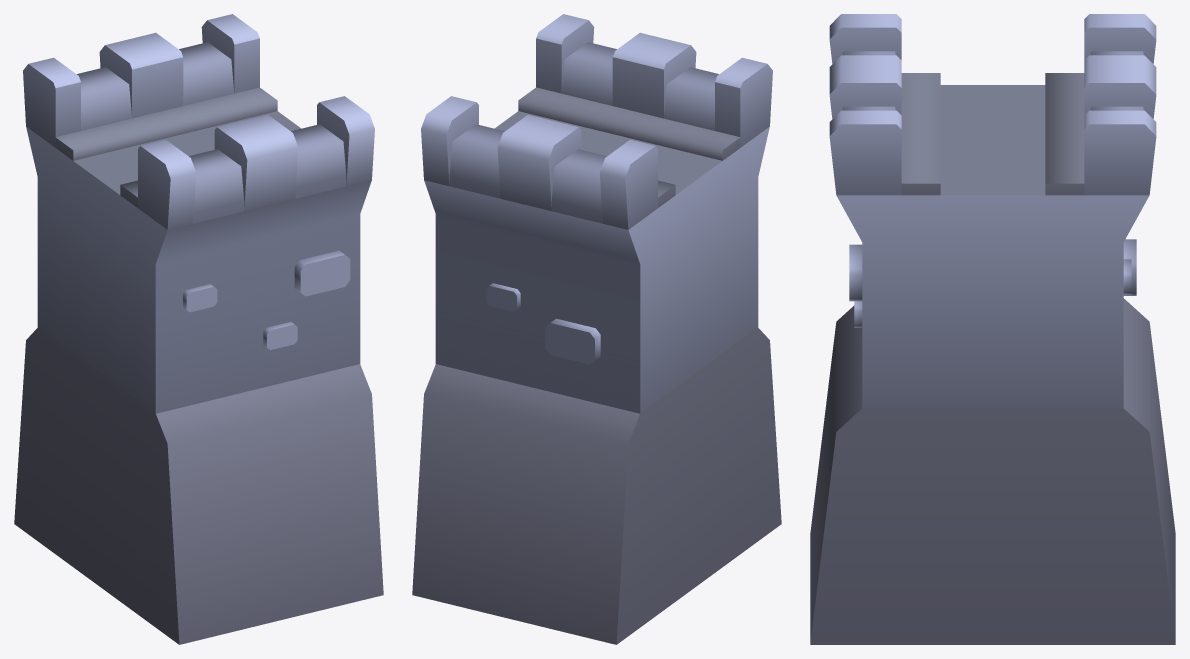
File: pk_castle-wall.glb
The picture shows the model from 3 angles, left to right: view 1: azimuth 30°, elevation 25°; view 2: azimuth 150°, elevation 25°; view 3: azimuth 270°, elevation 25°; orthographic projection. The views are drawn at different scales.
Visible parts, largest first — view 1: castle-wall; view 2: castle-wall; view 3: castle-wall.
Part boxes in pixels (box(x1,y1,x2,y2)): castle-wall: box(14, 14, 383, 644); castle-wall: box(412, 14, 781, 644); castle-wall: box(810, 14, 1175, 644).
Size of the model in its own units: 2 by 4.4 by 2.8.
Materials: 1 (1 with a texture image).
